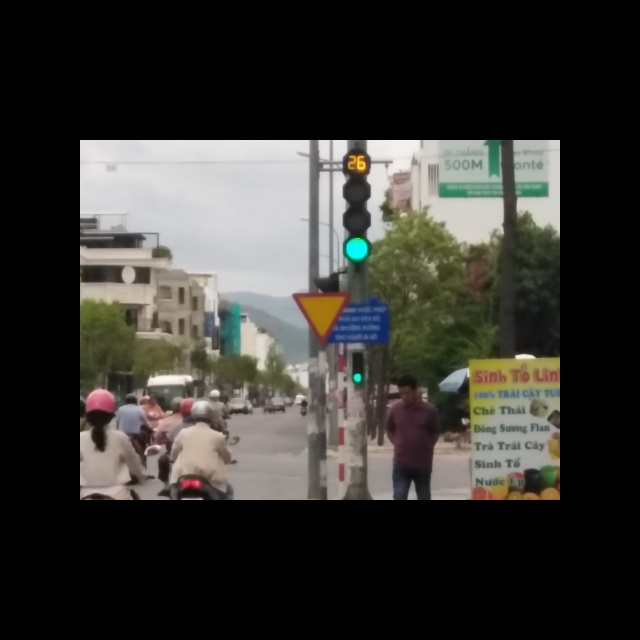Giao nhau với đường ưu tiên: (290, 293, 351, 342)
Đèn xanh: (343, 236, 371, 263)
